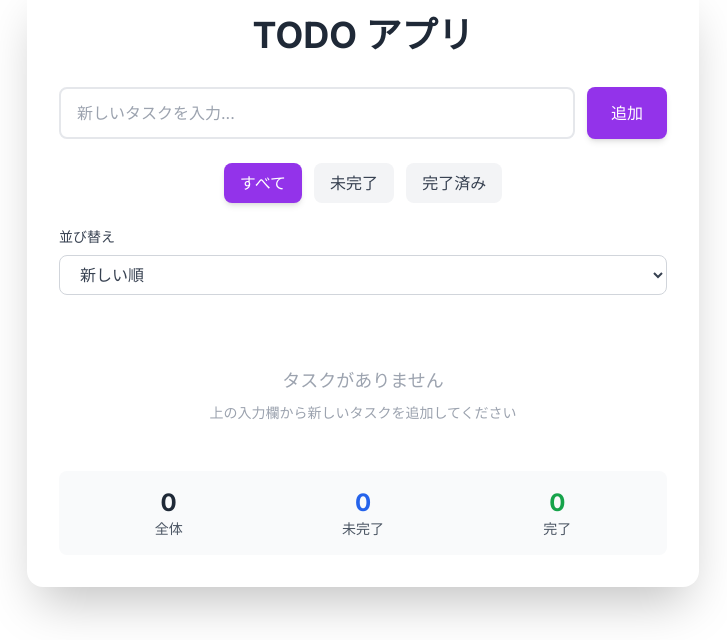
Test: TodoApp › should edit a todo text
Type "Original text" into the field with placeholder "新しいタスクを入力..." at (317, 113), box [59,87,575,139]
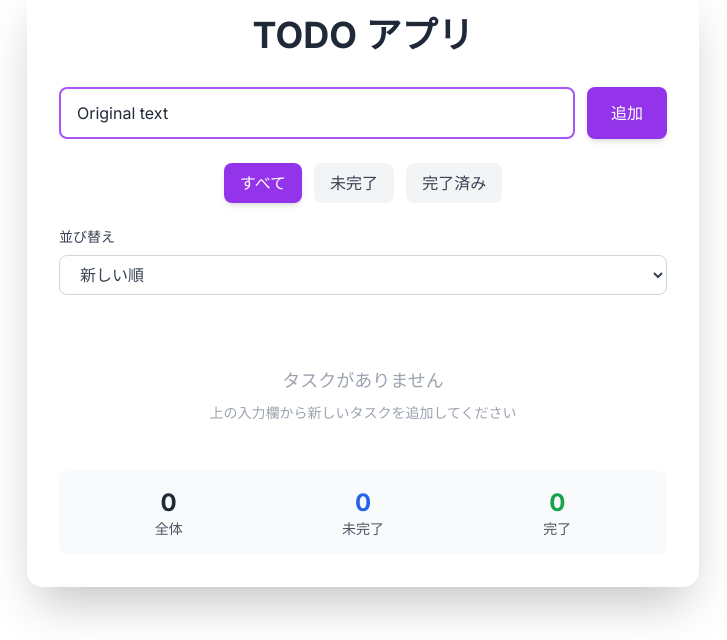
Click the button "追加" at (627, 113), box [587,87,667,139]
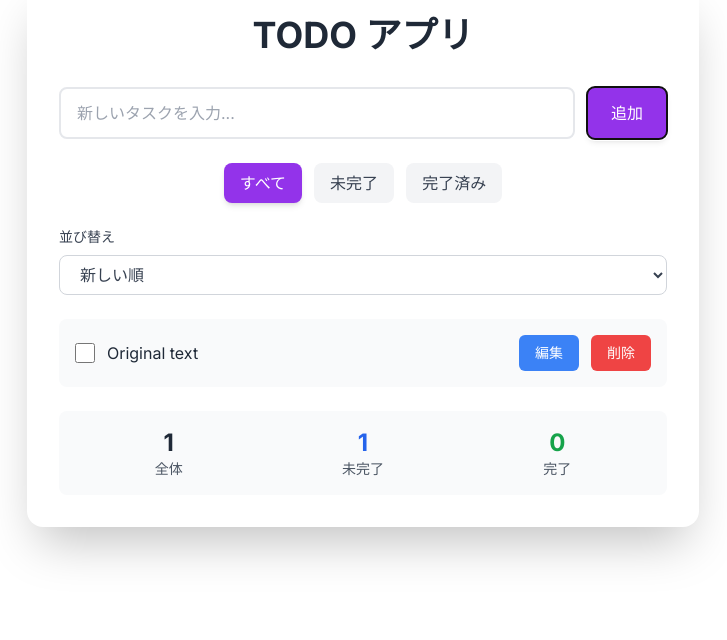
Result: the text "Original text" is shown at [107,343,198,363]
Click the button "編集" at (549, 353), box [519,335,579,371]
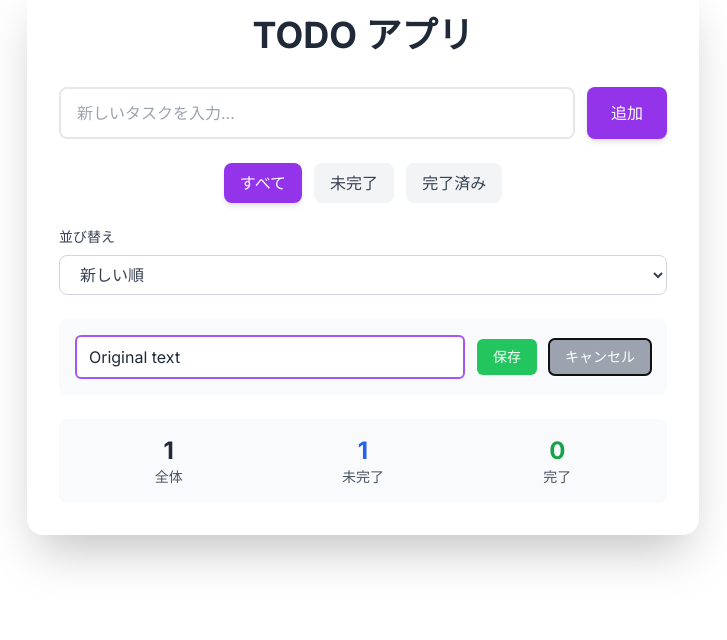
Replace the text in the 2nd field with "Updated text" at (270, 357), box [75,335,465,379]
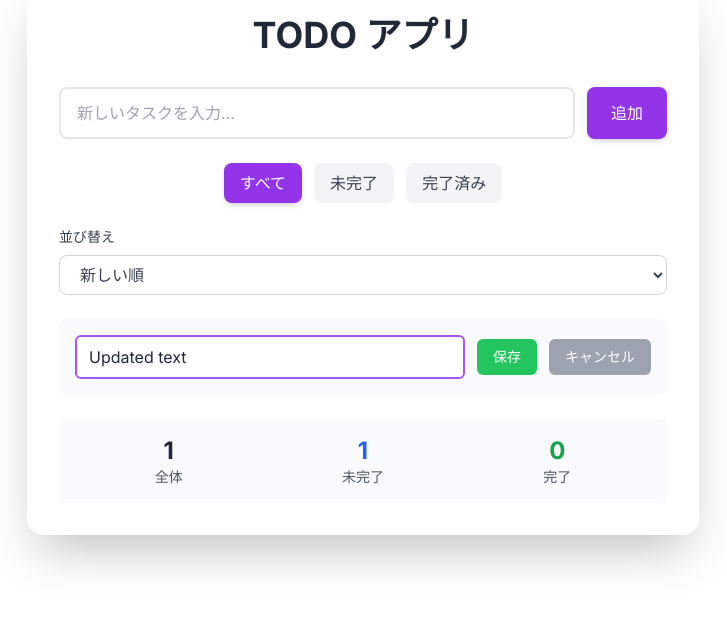
Click the button "保存" at (507, 357), box [477,339,537,375]
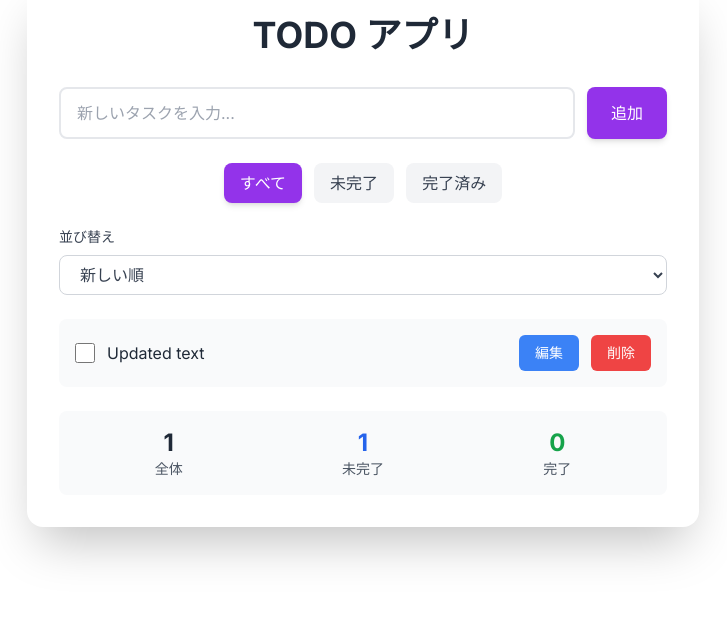
Expected: the text "Original text" is not shown
Result: the text "Updated text" is shown at [107,343,204,363]
